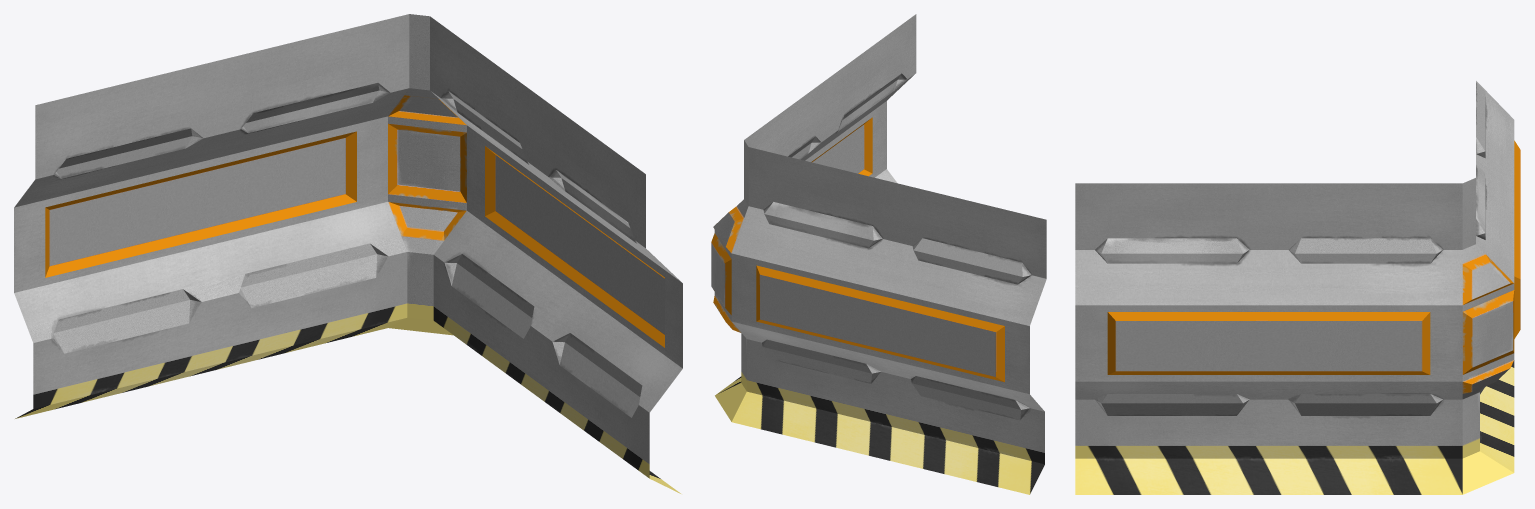
File: Wall_Corner.fbx
3 views of the same model, side by side, from view 1: azimuth 30°, elevation 25°; view 2: azimuth 150°, elevation 25°; view 3: azimuth 270°, elevation 25° (orthographic). The views are drawn at different scales.
Visible parts, largest first — view 1: Wall_Corner; view 2: Wall_Corner; view 3: Wall_Corner.
Part boxes in pixels (<box>): Wall_Corner: <box>14,14,682,493</box>; Wall_Corner: <box>711,14,1046,494</box>; Wall_Corner: <box>1075,81,1520,494</box>.
Bounding box in the file's own units: 2852 × 2088 × 2851.
1 material, 1 textured.
